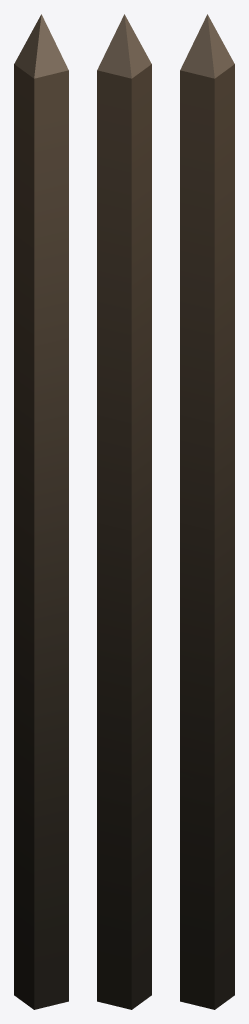
Rendered from SD_Env_Goblin_SpikeBeam_03.fbx.
The picture shows the model from 3 angles, left to right: view 1: azimuth 30°, elevation 25°; view 2: azimuth 150°, elevation 25°; view 3: azimuth 330°, elevation 25°; orthographic projection.
Parts seen in each view (by area): view 1: SD_Env_Goblin_SpikeBeam_03; view 2: SD_Env_Goblin_SpikeBeam_03; view 3: SD_Env_Goblin_SpikeBeam_03.
Part boxes in pixels (x1=…): SD_Env_Goblin_SpikeBeam_03: x1=14, y1=14, x2=68, y2=1009; SD_Env_Goblin_SpikeBeam_03: x1=97, y1=14, x2=151, y2=1009; SD_Env_Goblin_SpikeBeam_03: x1=180, y1=14, x2=234, y2=1009.
Size of the model in its own units: 0.6231 by 16.9 by 0.6231.
